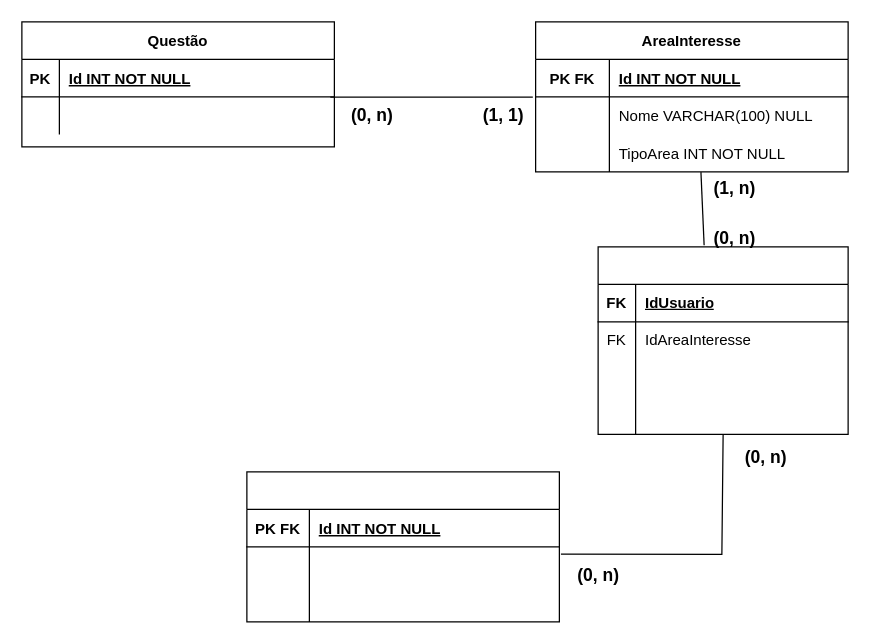
Some shapes in this 870 by 644 pixel diagram are drawn without their labels. Here are the shapes that lost their labels. From the top down, the box of each, then its label:
(597, 246, 848, 434): UsuarioArea
(246, 471, 559, 622): Usuario
